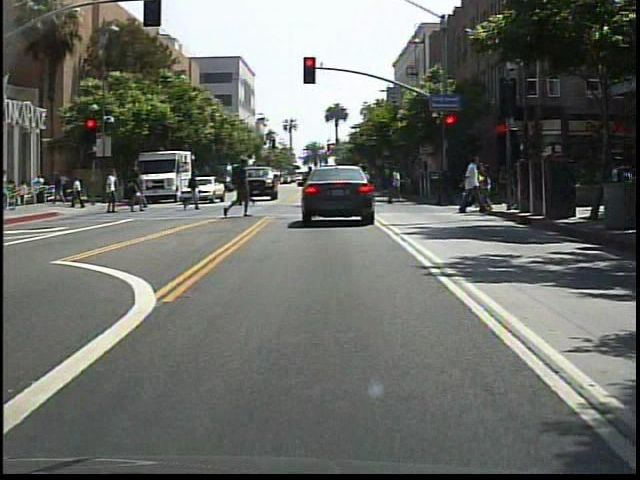person: (224, 154, 255, 224), (458, 152, 490, 216), (360, 164, 384, 220), (103, 168, 125, 215), (184, 168, 205, 214), (238, 167, 255, 207), (130, 170, 144, 215), (139, 171, 144, 213)
